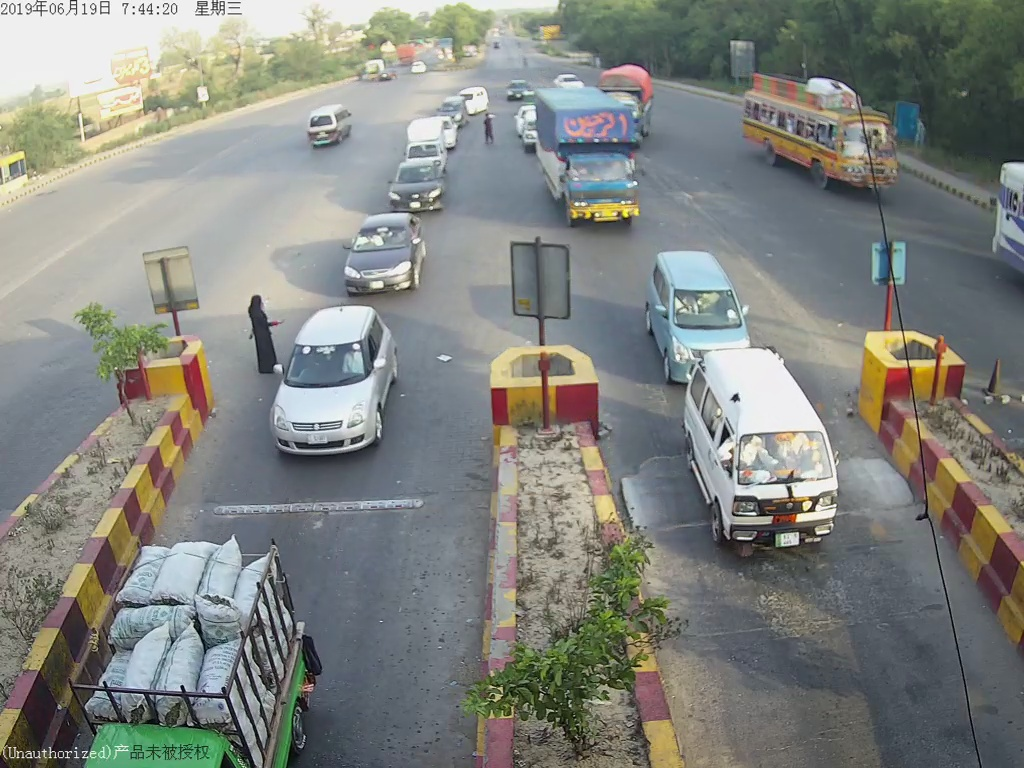Cat-1: (685, 351, 853, 563), (270, 305, 409, 459), (648, 258, 751, 341), (345, 217, 431, 292), (394, 158, 445, 212)
Cat-2: (538, 97, 646, 229)
